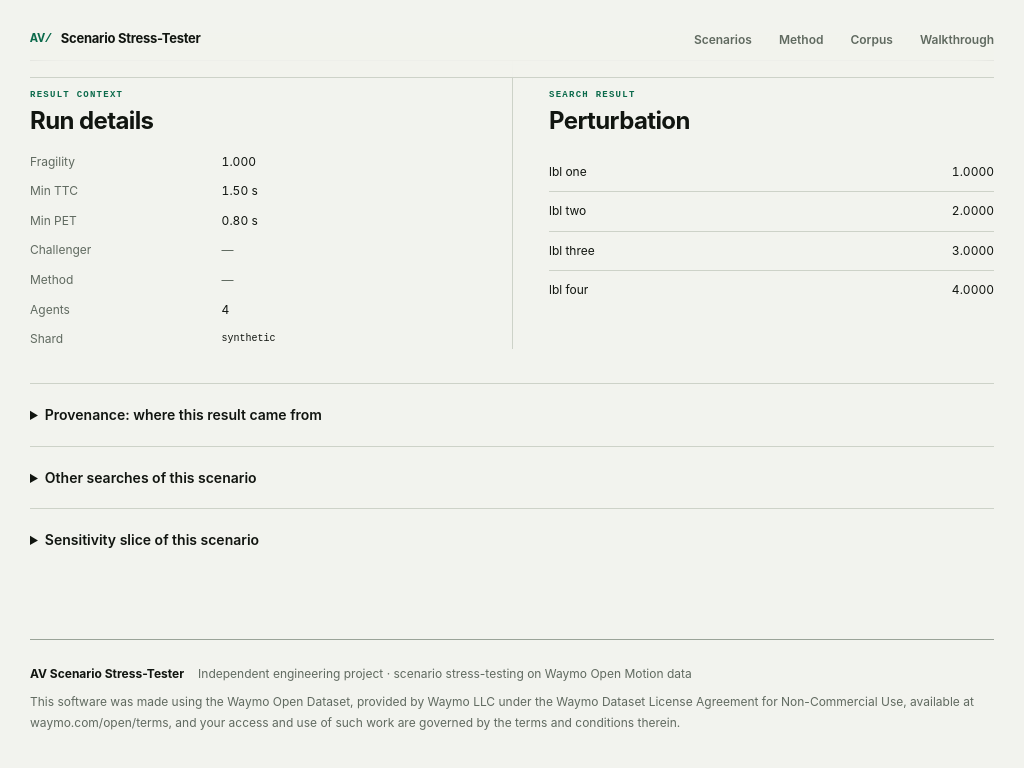
Test case: opening the panel › asks once, for this scenario, when it is opened, and not again when closed and reopened
(page scrolled)
Click the heading "Provenance: where this result came from" at (183, 414), box [45, 406, 322, 423]
(page scrolled)
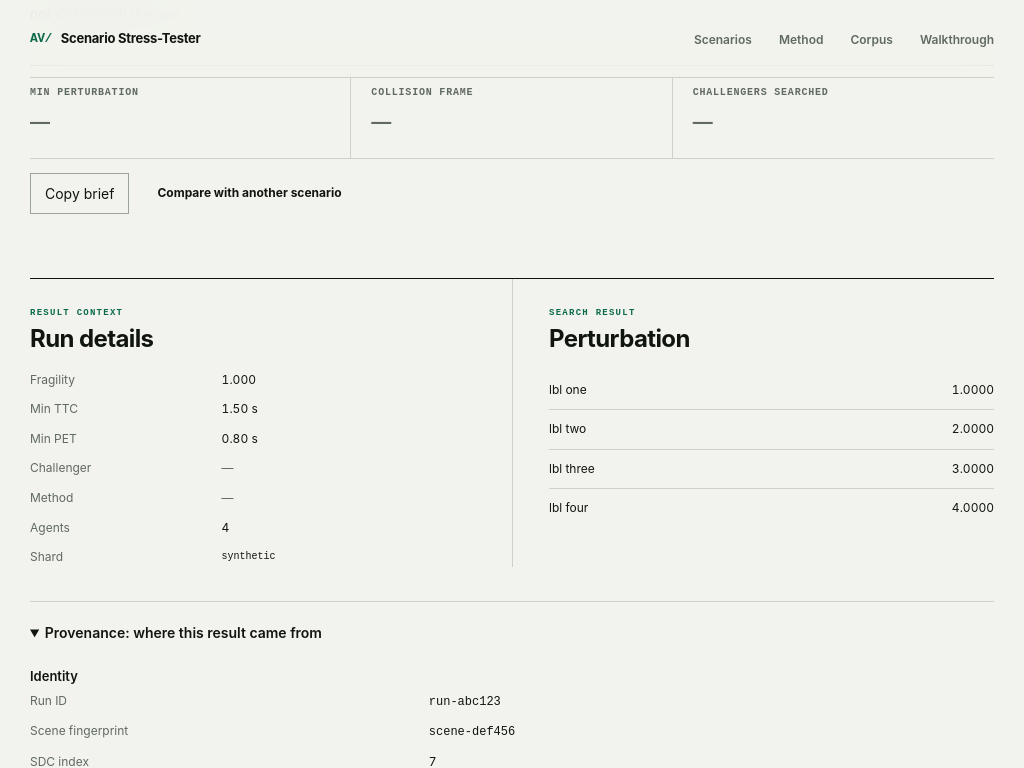
Expected: the text "Run ID" is shown, [30, 693, 67, 708]
Click the heading "Provenance: where this result came from" at (183, 632), box [45, 624, 322, 641]
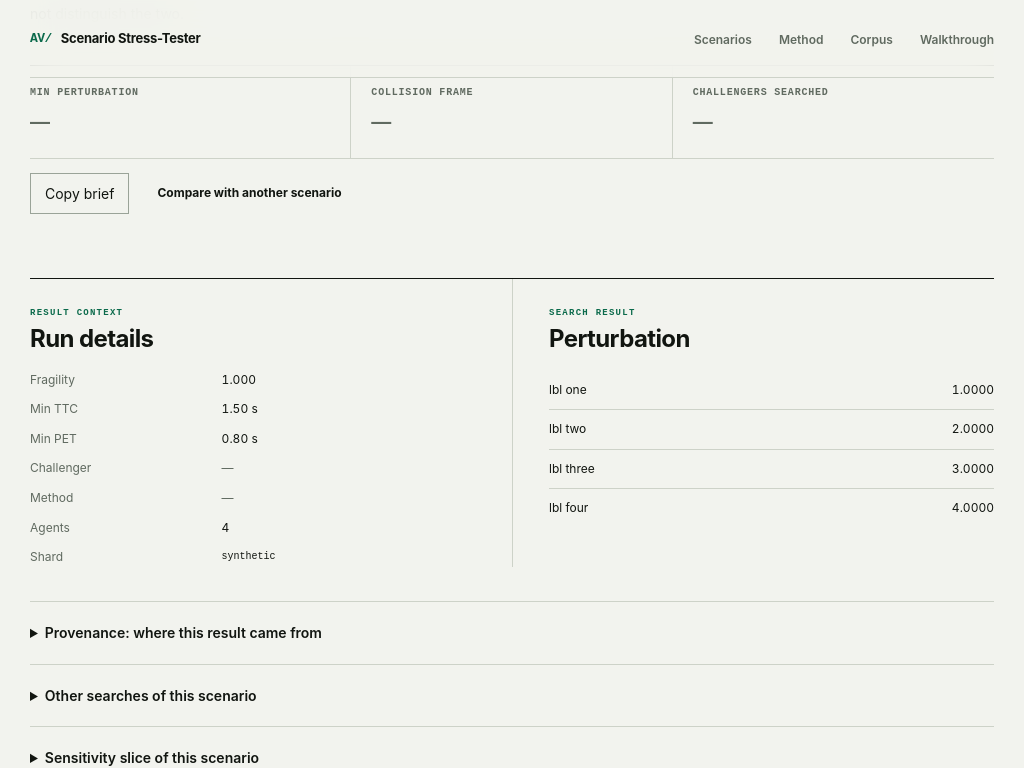
Click the heading "Provenance: where this result came from" at (183, 632), box [45, 624, 322, 641]
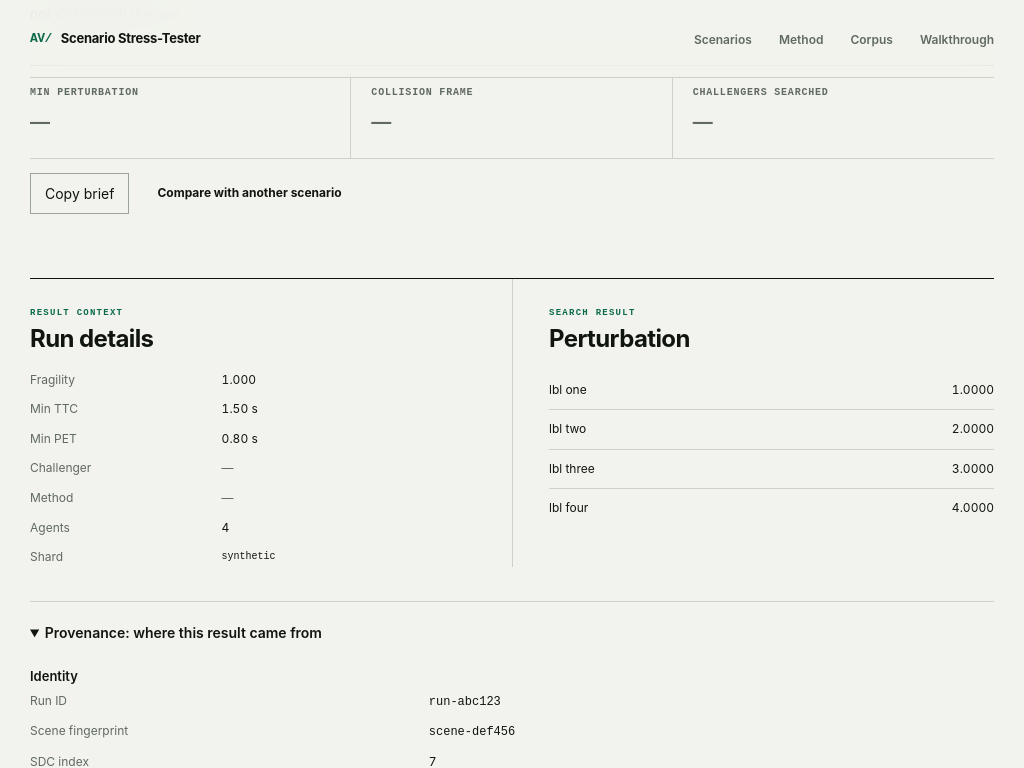
Expected: the text "Run ID" is shown, [30, 693, 67, 708]
